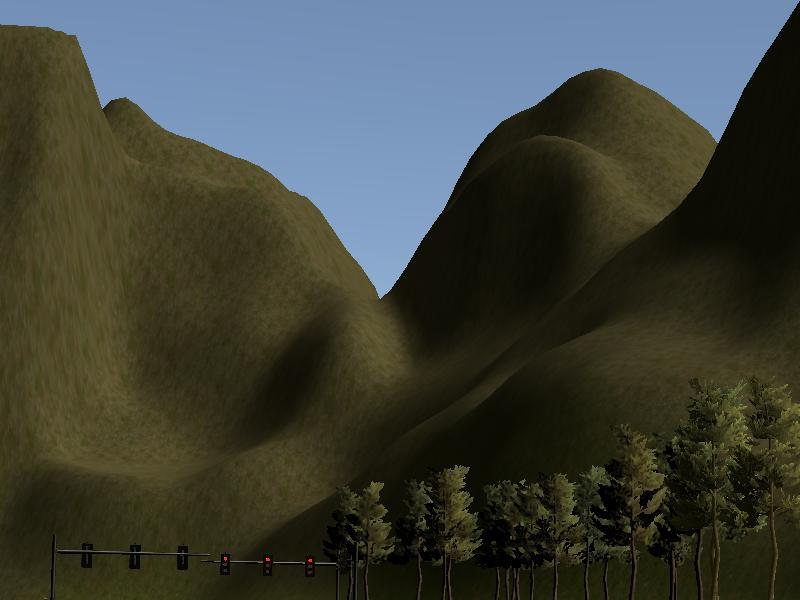Red: (304, 553, 316, 579), (219, 552, 231, 576), (263, 553, 273, 576)
